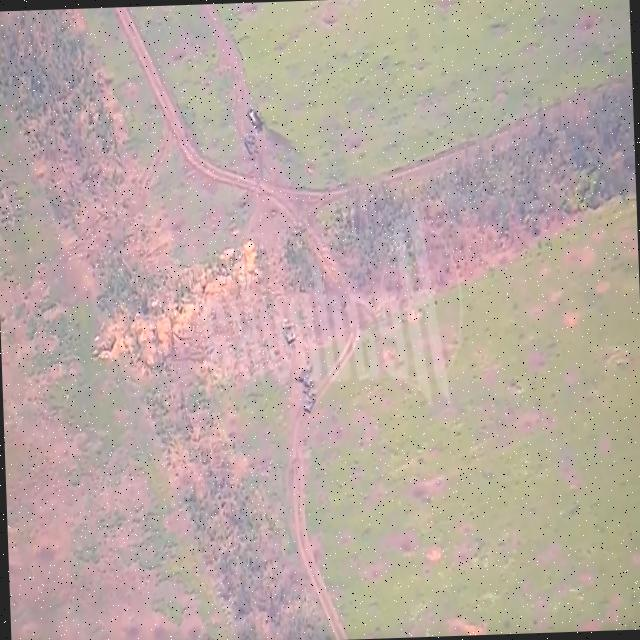APC: (302, 390, 318, 417)
Destroyed: (297, 357, 316, 385), (248, 106, 265, 134)
MBT: (281, 317, 298, 350), (242, 131, 261, 160)
